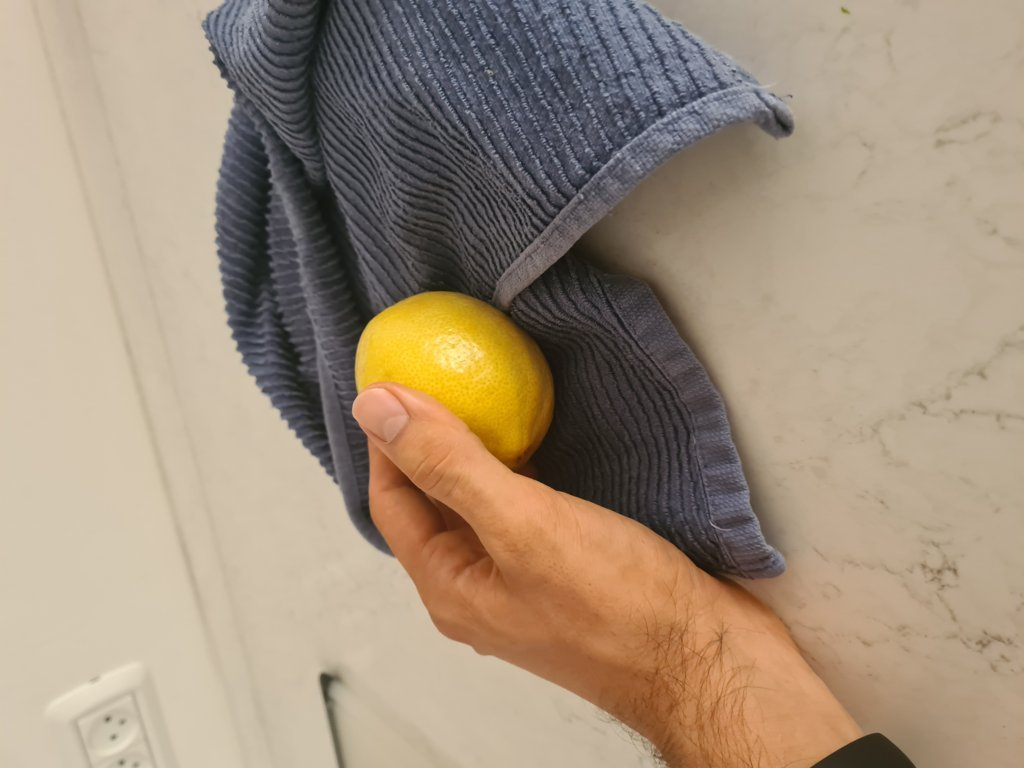lemon: (360, 296, 554, 469)
